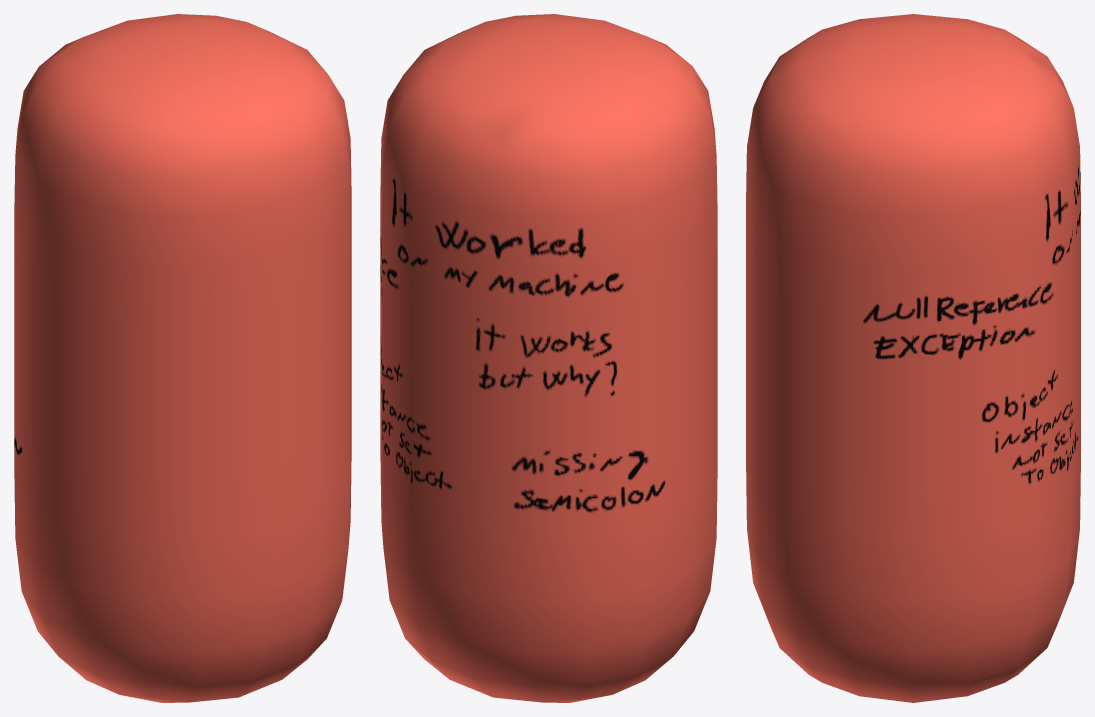
File: punchbag.fbx
The picture shows the model from 3 angles, left to right: view 1: azimuth 30°, elevation 25°; view 2: azimuth 150°, elevation 25°; view 3: azimuth 270°, elevation 25°; orthographic projection.
Parts seen in each view (by area): view 1: pucnhBag; view 2: pucnhBag; view 3: pucnhBag.
Boxes of the visible parts, x1,y1,x2,y2 form: pucnhBag: [14, 14, 351, 702]; pucnhBag: [380, 14, 717, 702]; pucnhBag: [746, 14, 1080, 702].
Bounding box in the file's own units: 0.9167 × 1.92 × 0.9167.
1 material, 1 textured.
